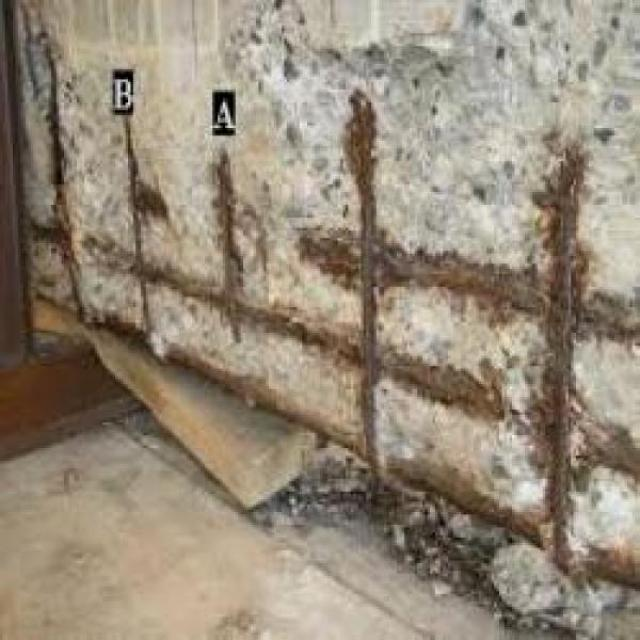vegetation: (9, 0, 638, 636)
